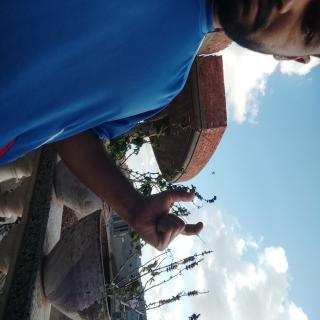NOON: (134, 150, 197, 252)
